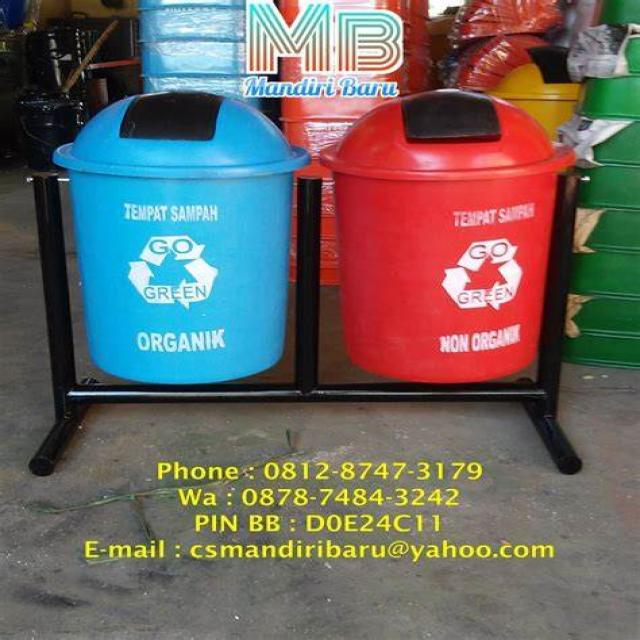garbage container: (17, 73, 318, 404), (318, 72, 608, 406)
